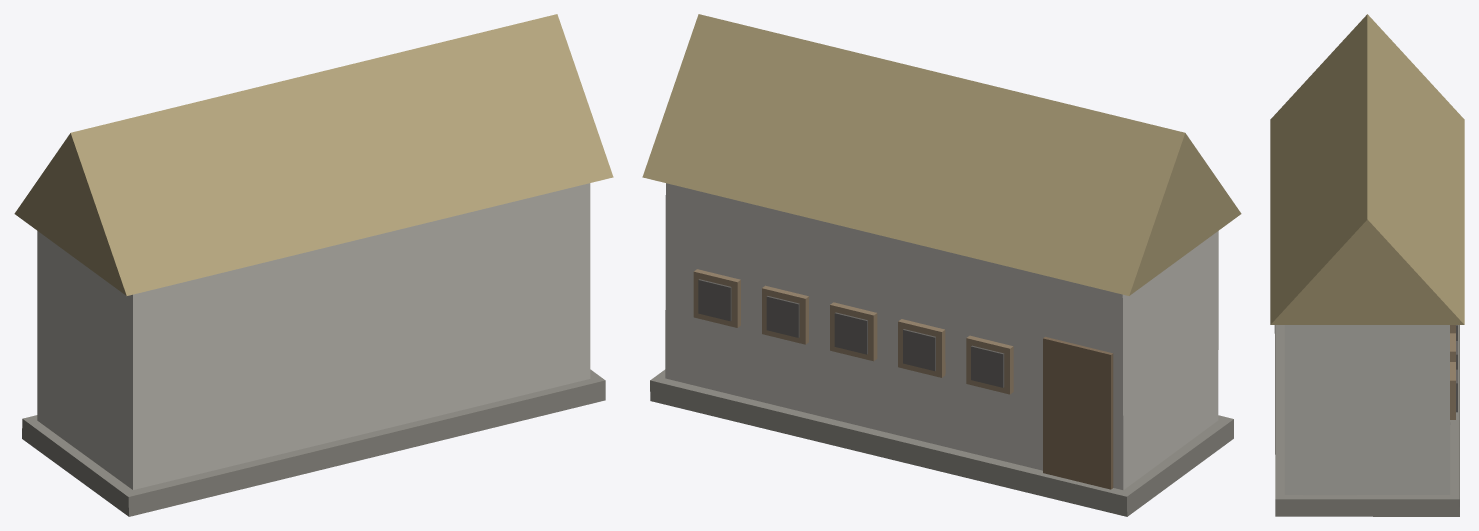
The model's file is bead_loom_hall.glb.
3 renders of one model, left to right at view 1: azimuth 30°, elevation 25°; view 2: azimuth 150°, elevation 25°; view 3: azimuth 270°, elevation 25°, orthographic. The views are drawn at different scales.
Parts seen in each view (by area): view 1: bead_loom_hall; view 2: bead_loom_hall; view 3: bead_loom_hall.
Part boxes in pixels (x1,y1,x2,y2): bead_loom_hall: (14, 14, 613, 516); bead_loom_hall: (642, 14, 1241, 516); bead_loom_hall: (1270, 14, 1464, 516).
Bounding box in the file's own units: 5 × 3.4 × 2.
